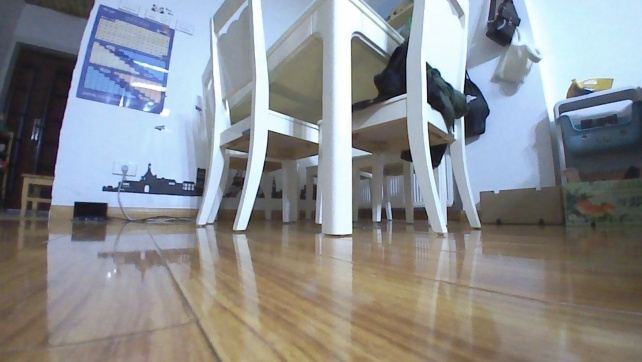dining_table: (182, 0, 487, 232)
door_anno: (0, 40, 75, 211)
wire: (112, 169, 189, 224)
